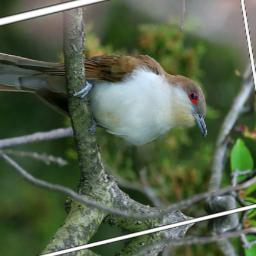Cuckoo: (0, 0, 213, 194)
